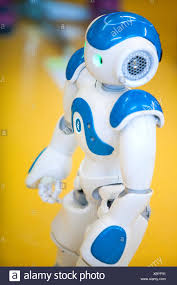nao: (22, 5, 170, 266)
